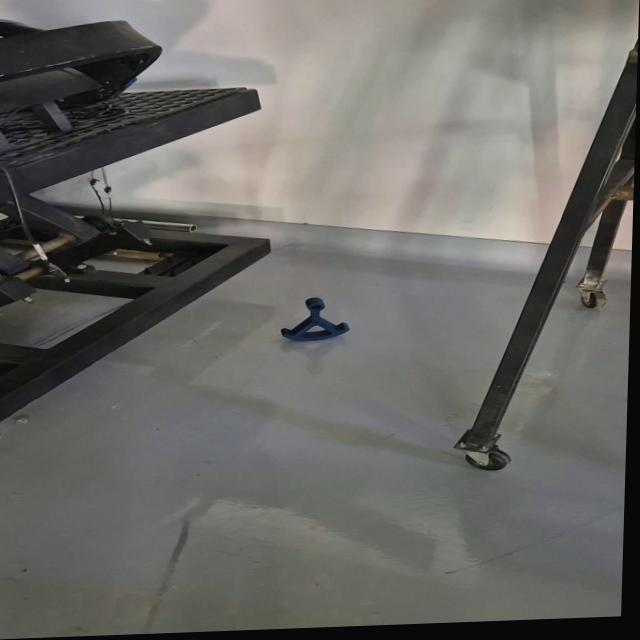haptic: (279, 296, 352, 342)
